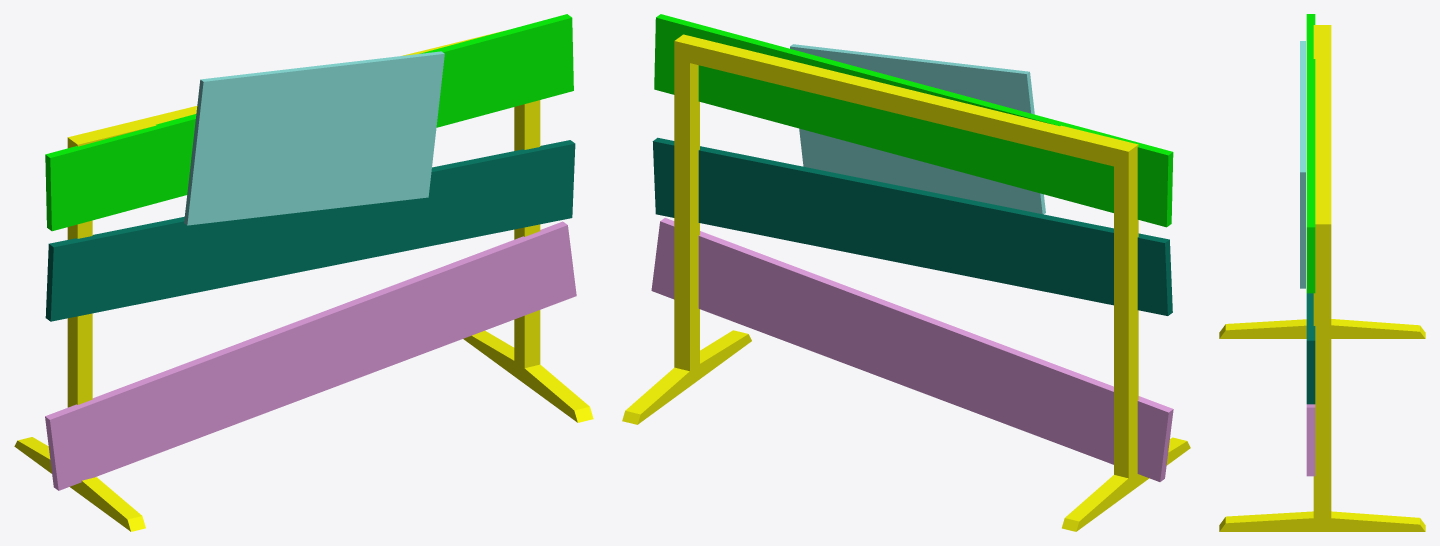
Rendered from SM_Barriere_01.fbx.
3 renders of one model, left to right at view 1: azimuth 30°, elevation 25°; view 2: azimuth 150°, elevation 25°; view 3: azimuth 270°, elevation 25°, orthographic. The views are drawn at different scales.
Parts seen in each view (by area): view 1: SM_Barriere_01; view 2: SM_Barriere_01; view 3: SM_Barriere_01.
Part boxes in pixels (x1,y1,x2,y2): SM_Barriere_01: [14, 14, 593, 531]; SM_Barriere_01: [622, 14, 1190, 531]; SM_Barriere_01: [1219, 14, 1425, 531].
Size of the model in its own units: 1.01 by 0.7098 by 0.3873.
